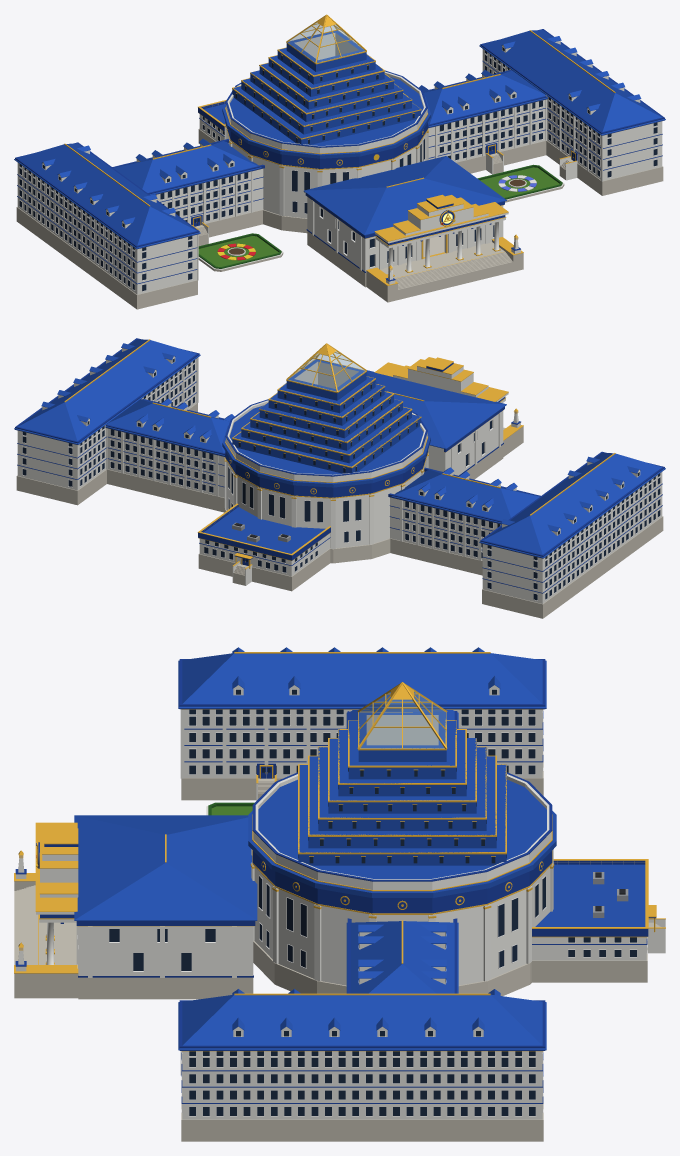
File: SM_Academy_Main.fbx
3 renders of one model, top to bottom at view 1: azimuth 30°, elevation 25°; view 2: azimuth 150°, elevation 25°; view 3: azimuth 270°, elevation 25°, orthographic. The views are drawn at different scales.
Visible parts, largest first — view 1: SM_Academy_Main; view 2: SM_Academy_Main; view 3: SM_Academy_Main.
Part boxes in pixels (<box>): SM_Academy_Main: <box>14,14,665,309</box>; SM_Academy_Main: <box>14,338,665,618</box>; SM_Academy_Main: <box>14,647,665,1141</box>.
Size of the model in its own units: 230 by 73.55 by 163.
